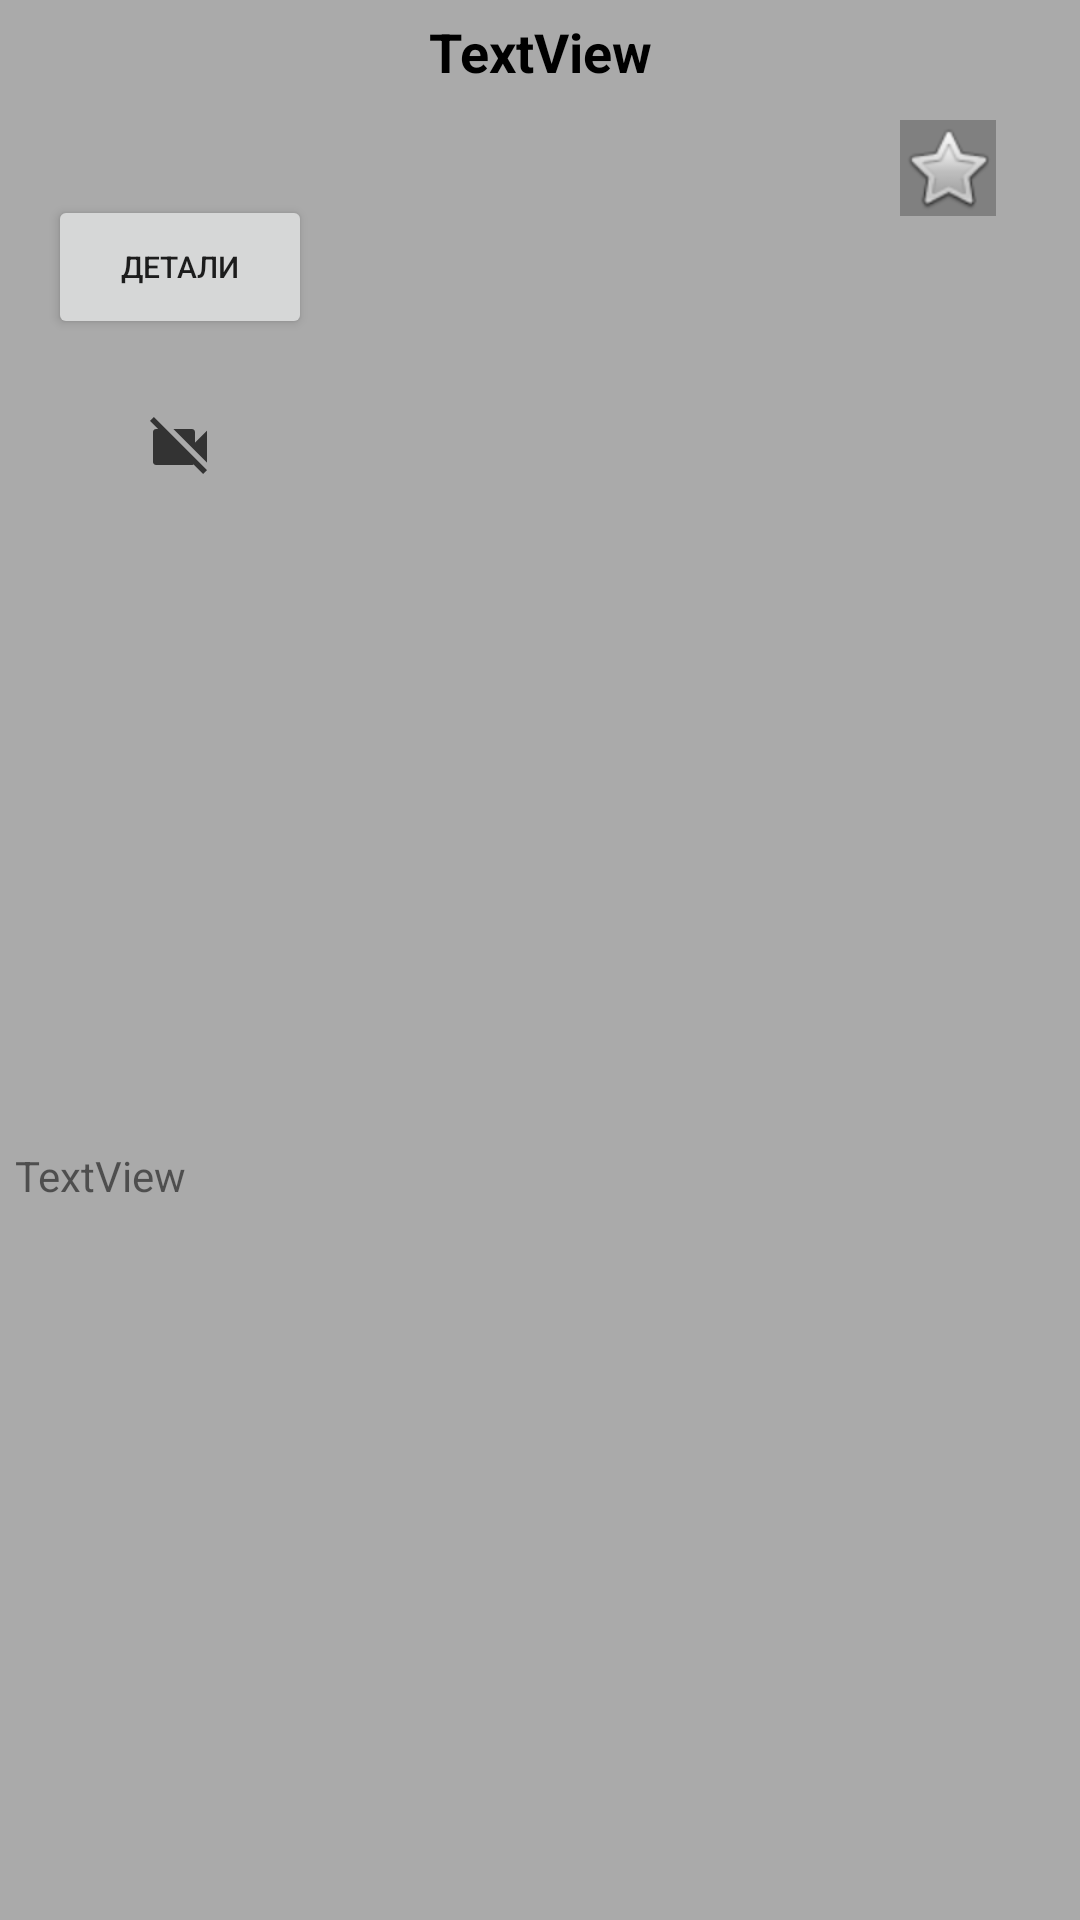

Named icons in this screenshot (1080w x 1920h) and their centers, [x,y]:
star: [948,168]
